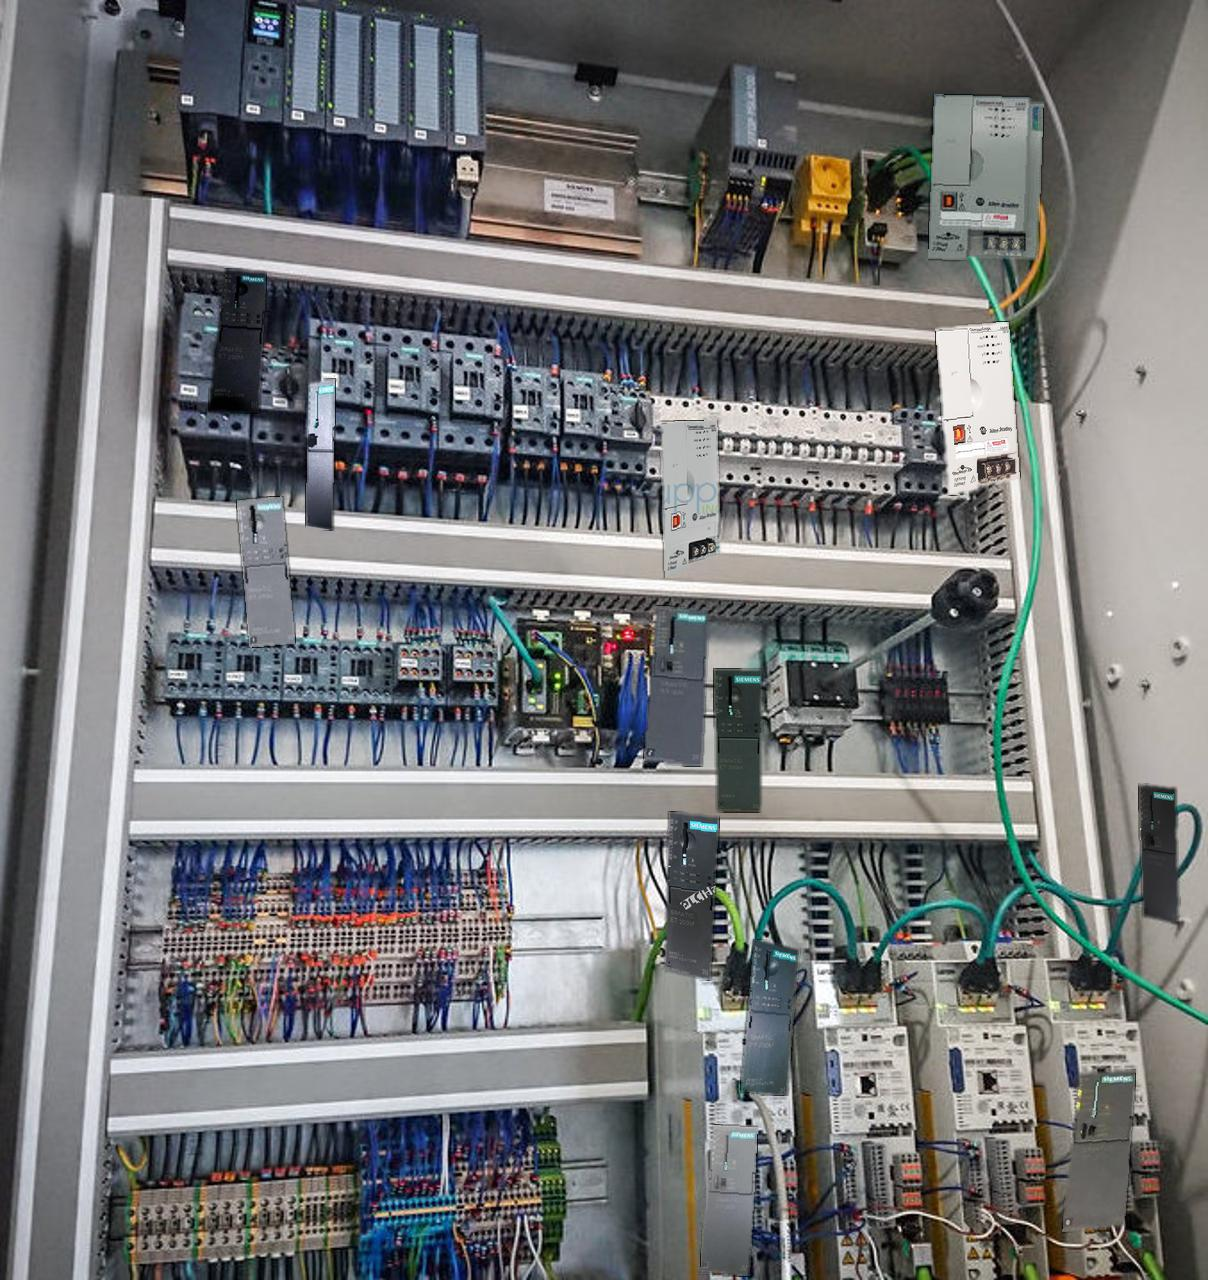AllenBradley: (928, 94, 1043, 259), (936, 323, 1020, 494), (661, 420, 719, 577)
Siemens: (1062, 1070, 1135, 1231), (644, 606, 707, 766), (701, 1126, 757, 1275), (1139, 785, 1178, 922), (307, 379, 334, 529)
